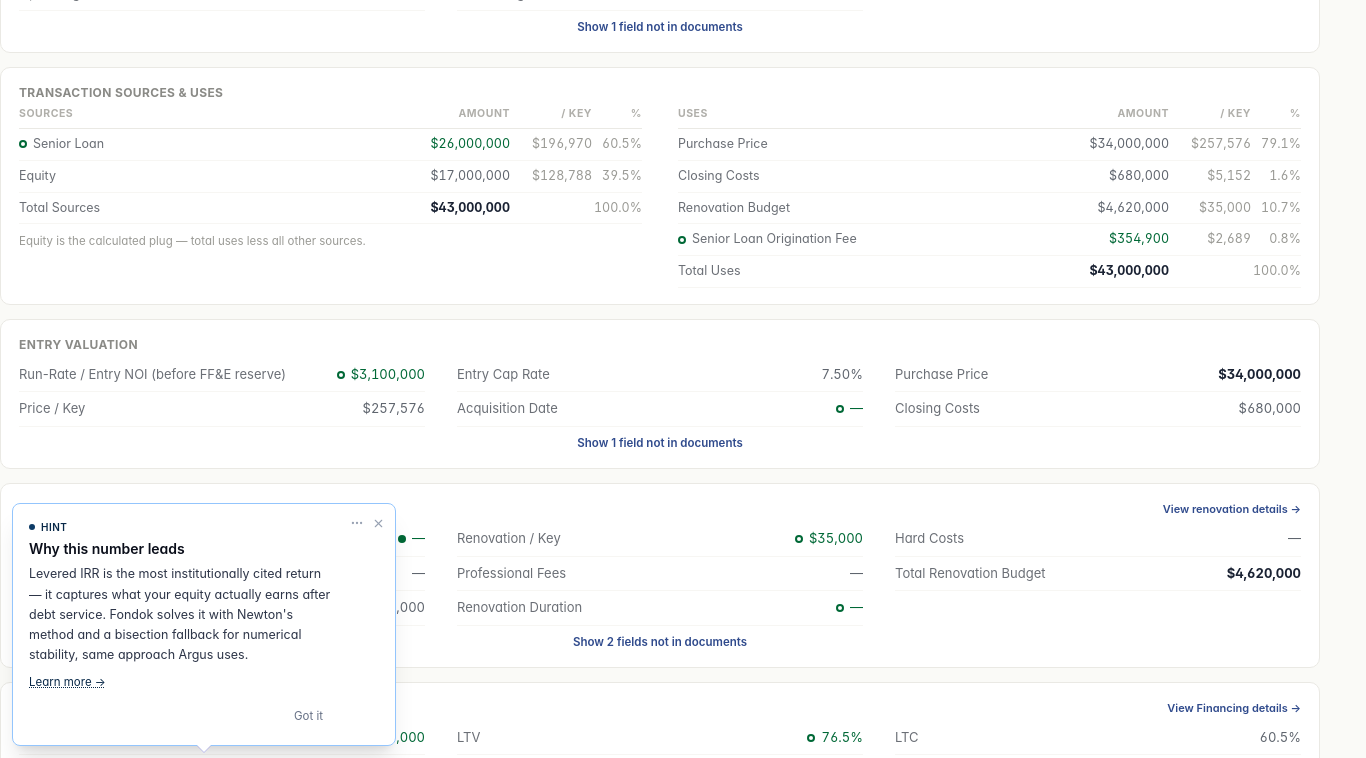
Scenario: OverviewTab — "Where this came from" popover › opens the anchored provenance popover with the calculation formula on a calc row
The image size is (1366, 758).
(page scrolled)
Click the text "$34,000,000" in the row of "Entry Cap Rate".
click(1260, 375)  # box [1218,365,1301,384]
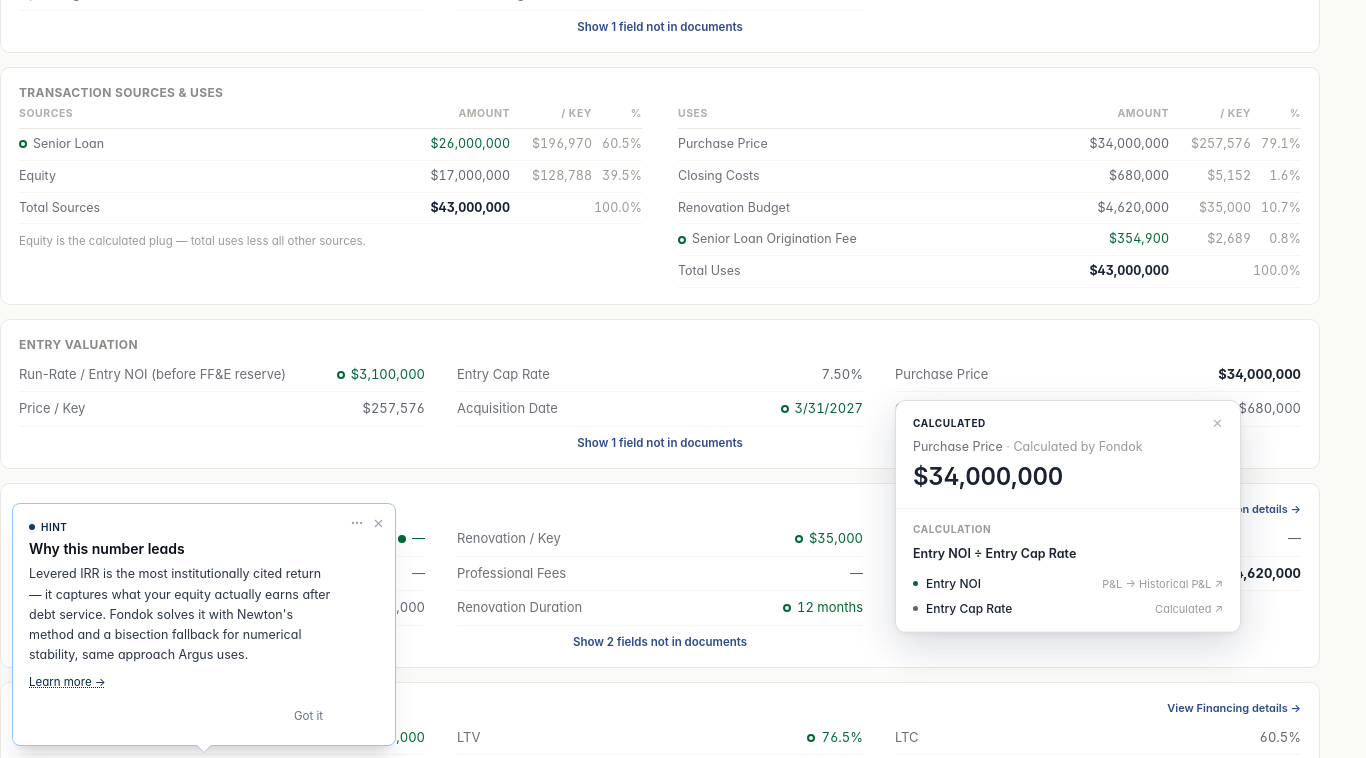
Now the dialog named "Where Purchase Price came from" is shown, box [895,400,1241,633]
Now the text "Entry NOI ÷ Entry Cap Rate" is shown, box [913,546,1076,561]
